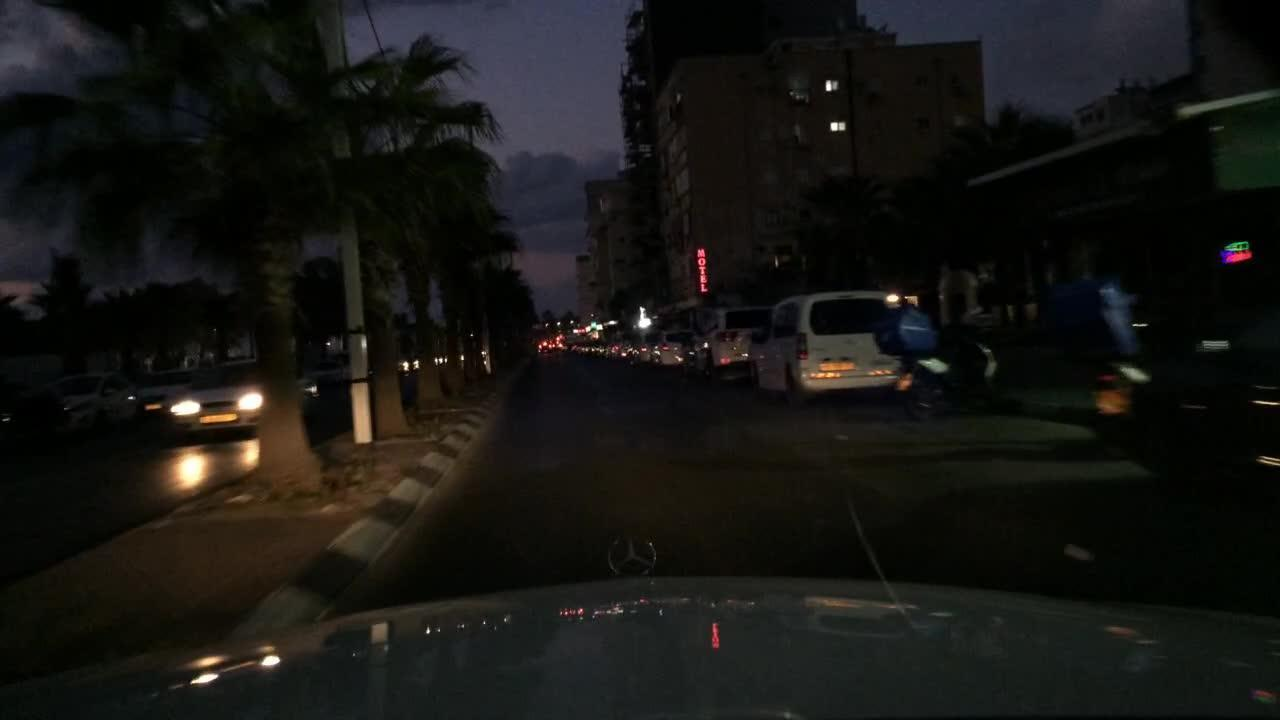Mercedes: (605, 532, 661, 583)
